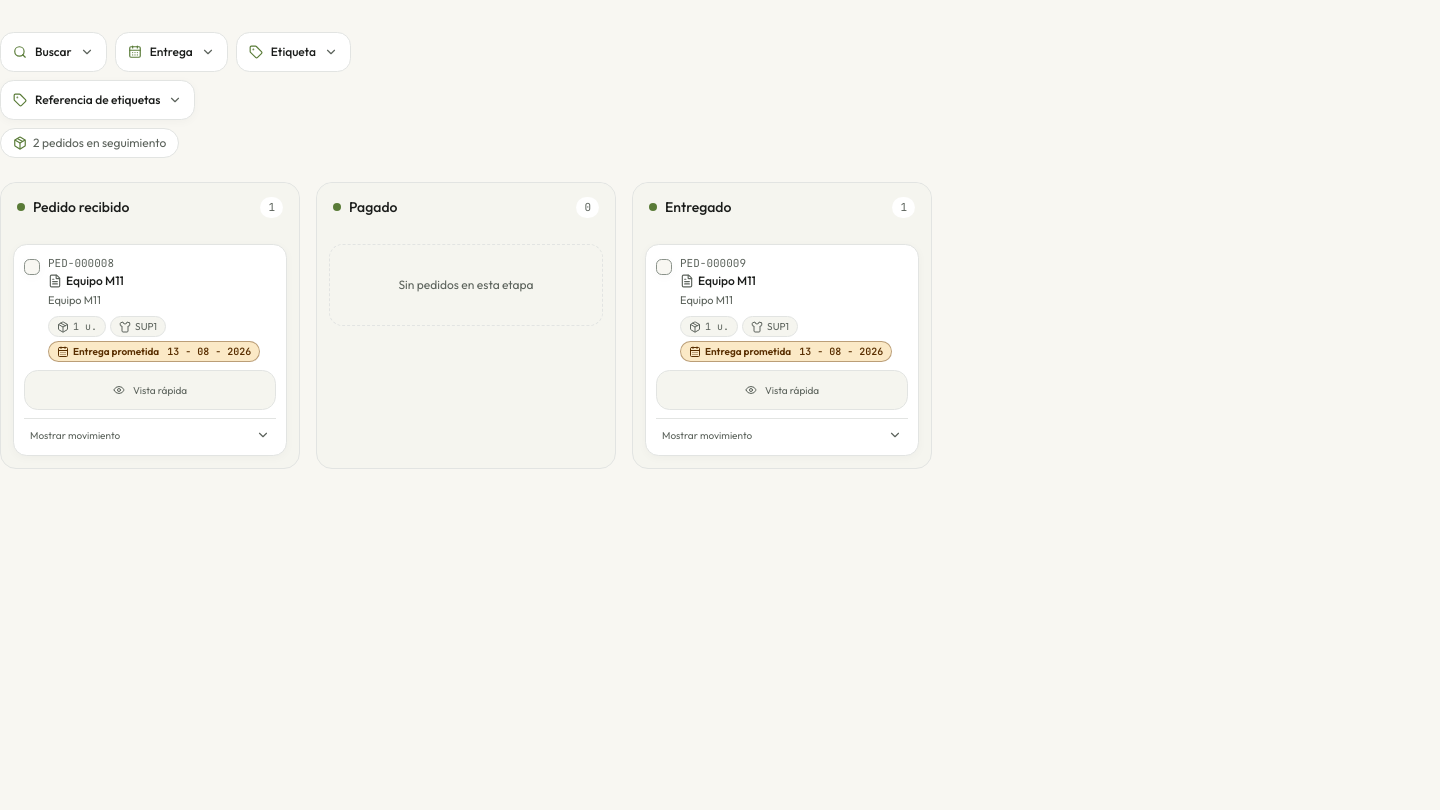
Test: order board bulk lifecycle actions › archives only selected delivered orders and reports ineligible orders independently
Click the checkbox named "Seleccionar PED-000008": (32, 266) 24,258 -> 40,274
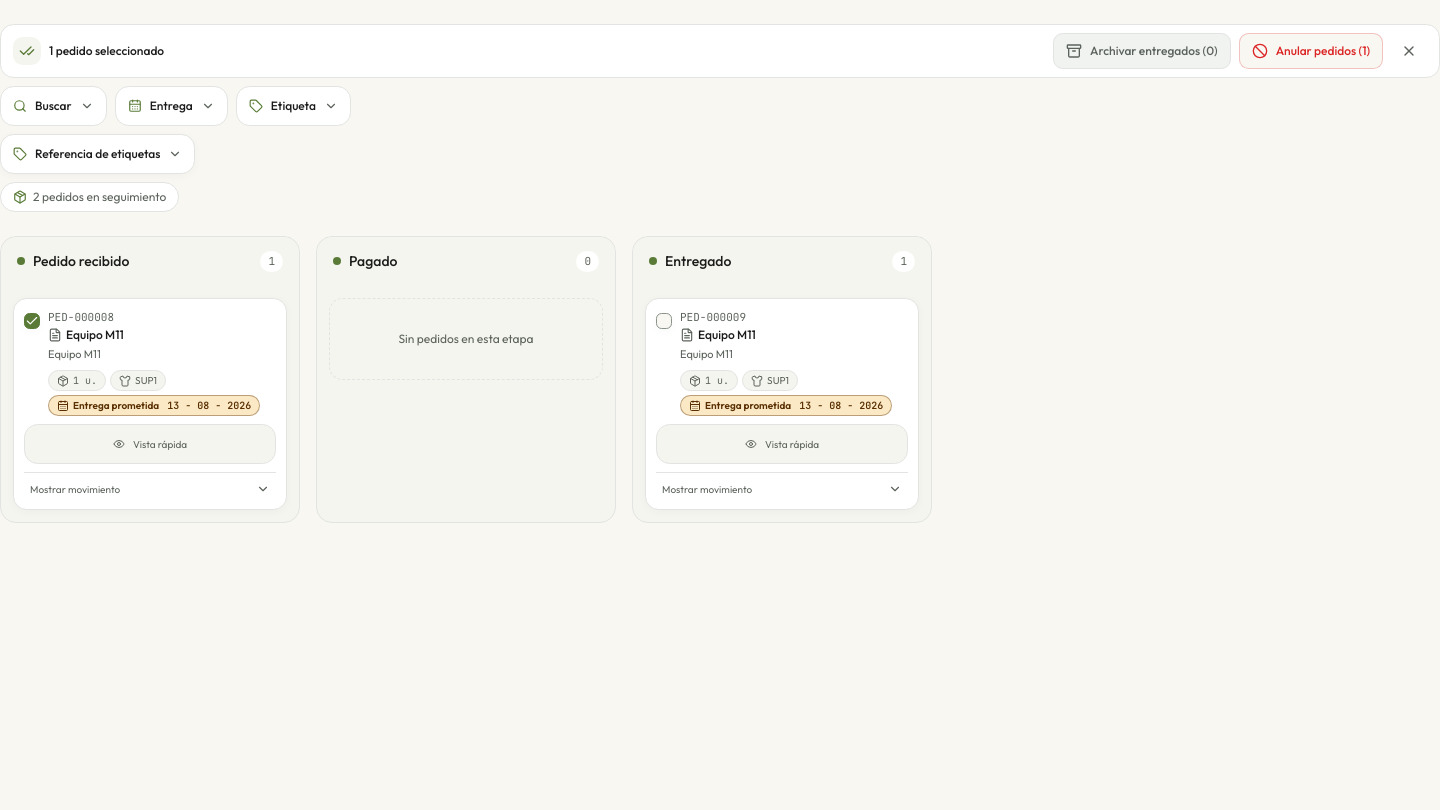
Click the checkbox named "Seleccionar PED-000009": (664, 320) 656,312 -> 672,328
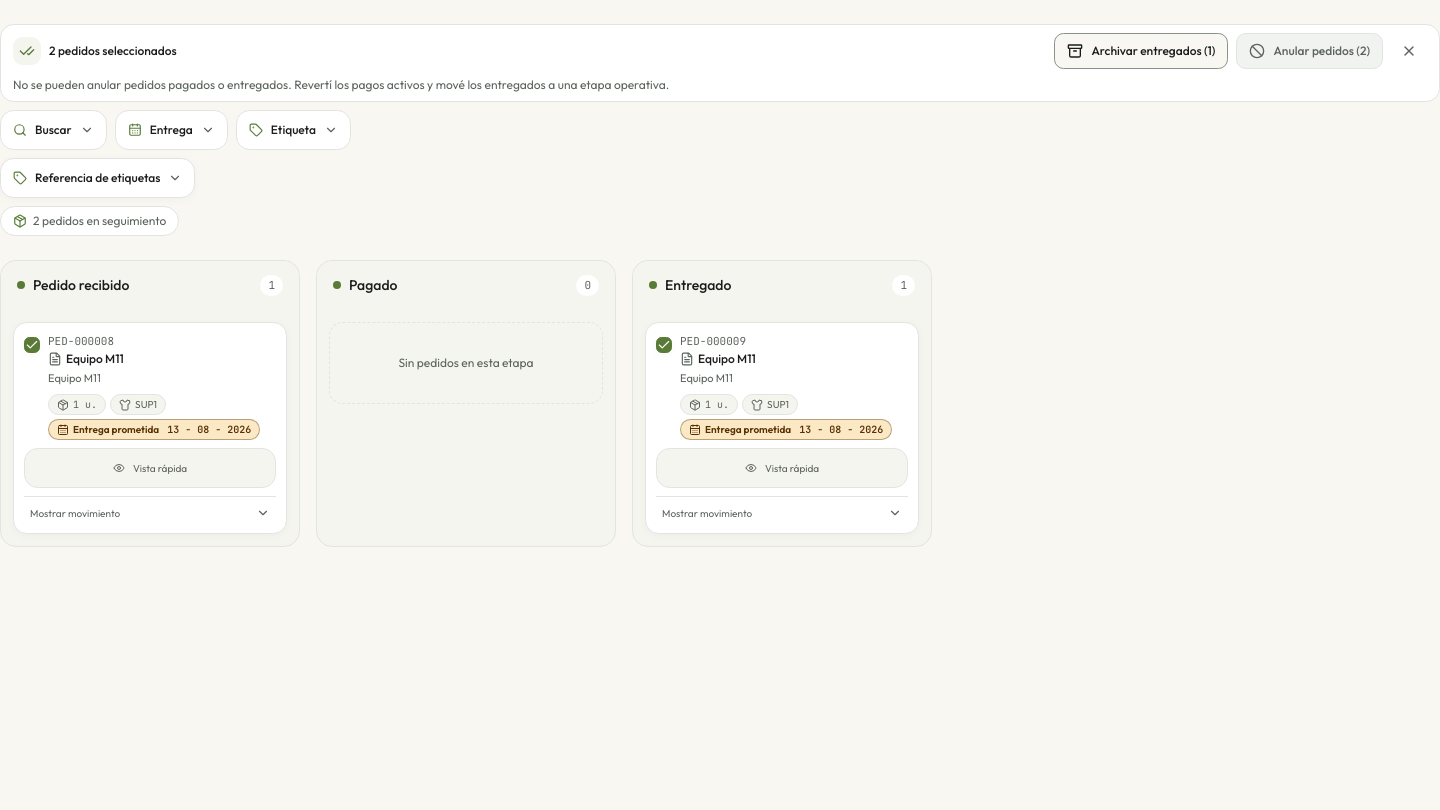
Click the button "Archivar entregados (1)": (1141, 51) 1054,33 -> 1228,69
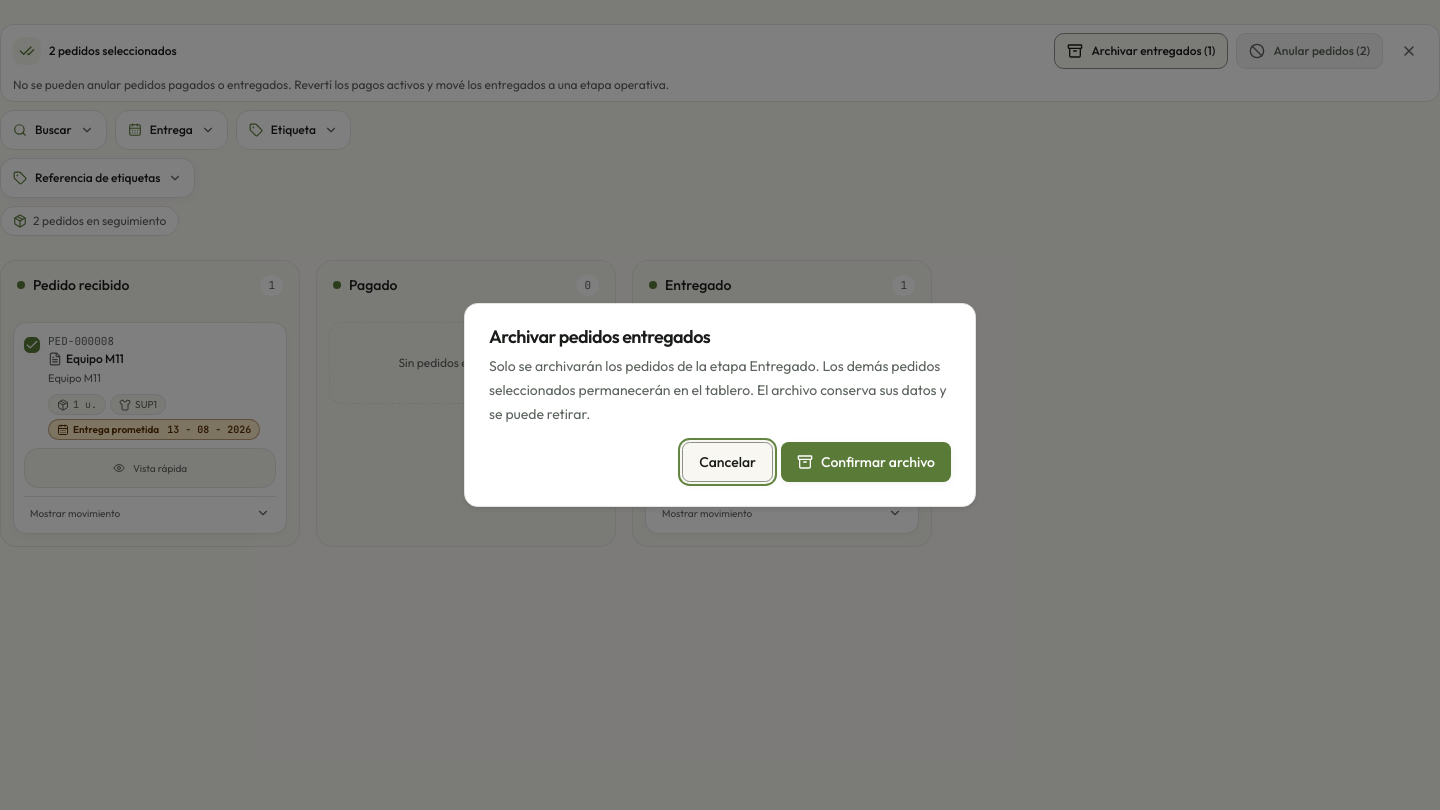
Click the button "Confirmar archivo": (866, 462) 781,442 -> 951,482
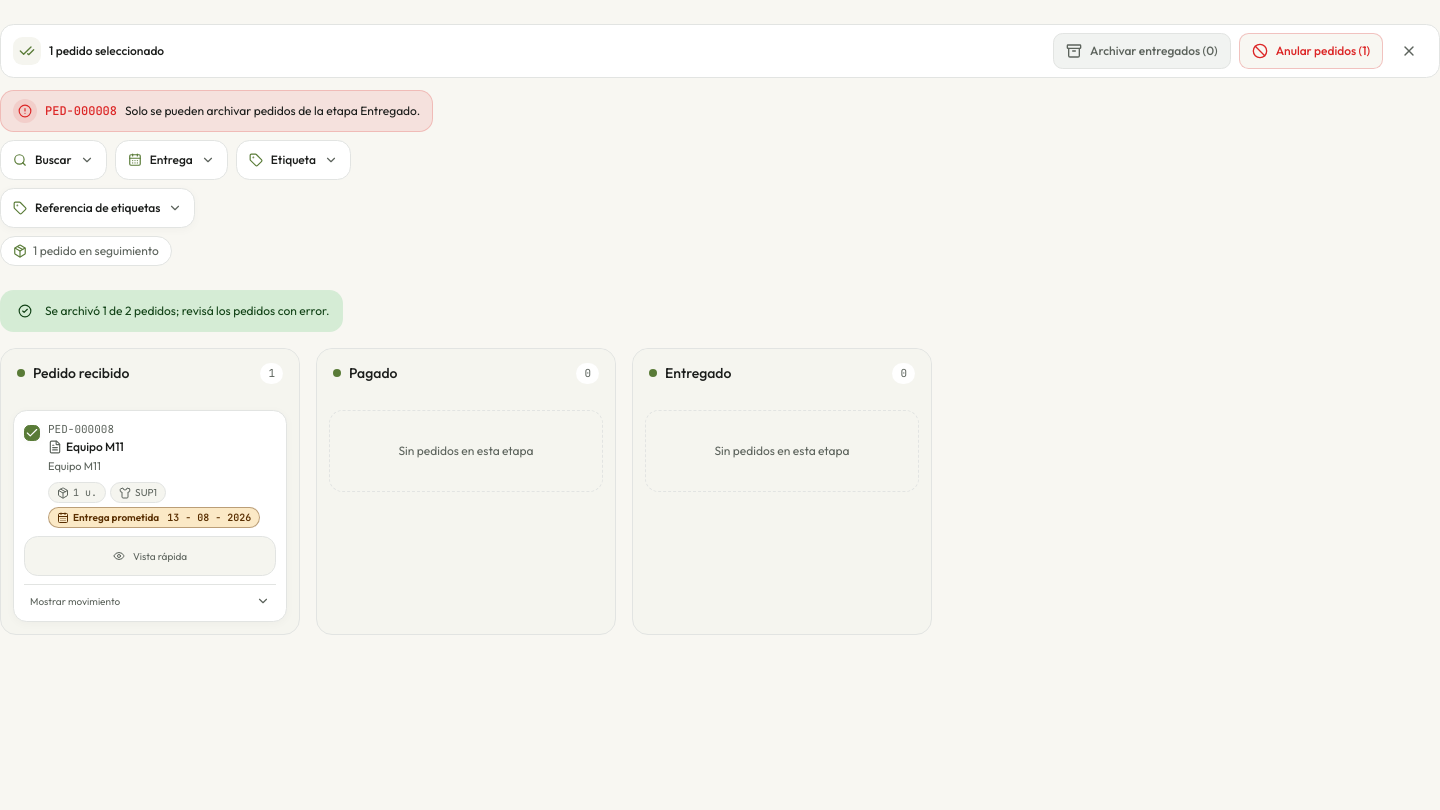
Expected: the button with aria-label "Vista rápida de PED-000008" is shown, 24,536 -> 276,576
Result: the message "PED-000008Solo se pueden archivar pedidos de la etapa Entregado." is shown at 0,90 -> 433,132
